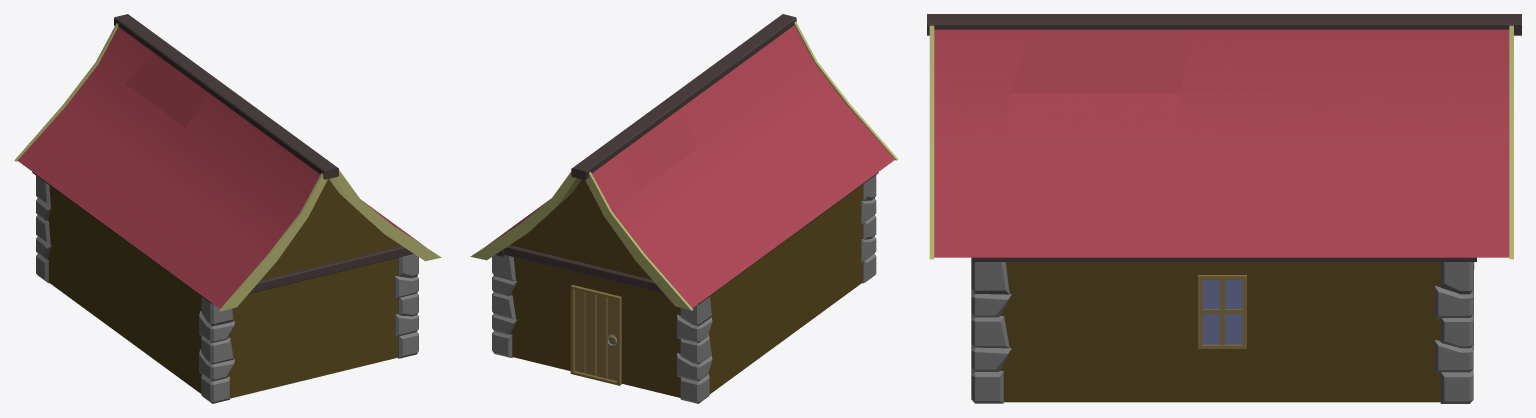
File: House_01.fbx
The picture shows the model from 3 angles, left to right: view 1: azimuth 30°, elevation 25°; view 2: azimuth 150°, elevation 25°; view 3: azimuth 270°, elevation 25°; orthographic projection. The views are drawn at different scales.
Visible parts, largest first — view 1: IntactRoof_02, IntactWall_03, IntactTopWall_02, polySurface133 (×2), IntactBeam_05, polySurface112 (×2), RoofPiece_04, polySurface106 (×2), polySurface117 (×2), polySurface136 (×2), polySurface135 (×2), polySurface129 (×2) (+27 smaller); view 2: IntactRoof_02, IntactWall_04, IntactTopWall_01, IntactDoor, RoofPiece_04, IntactBeam_05, IntactSideRocks_04, polySurface133, IntactSideRocks_01, BeamPiece03 (×2), BeamPiece02 (×2), IntactRoof_01 (+37 smaller); view 3: IntactRoof_01, IntactWall_01, RoofPiece_11, RoofPiece_06, RoofPiece_04, IntactBeam_05, RoofPiece_12, RoofPiece_10, polySurface133, RoofPiece_05, polySurface106, IntactSideRocks_01 (+28 smaller).
Part boxes in pixels (left/top/right/bottom): IntactRoof_02: left=14, top=23, right=327, bottom=311; IntactWall_03: left=228, top=268, right=374, bottom=398; IntactTopWall_02: left=261, top=179, right=401, bottom=279; polySurface133 (×2): left=116, top=254, right=367, bottom=354; IntactBeam_05: left=114, top=14, right=338, bottom=179; polySurface112 (×2): left=64, top=196, right=312, bottom=324; RoofPiece_04: left=125, top=52, right=208, bottom=127; polySurface106 (×2): left=47, top=236, right=264, bottom=397; polySurface117 (×2): left=74, top=255, right=309, bottom=389; polySurface136 (×2): left=162, top=272, right=384, bottom=368; polySurface135 (×2): left=92, top=253, right=309, bottom=359; polySurface129 (×2): left=116, top=239, right=355, bottom=301; IntactRoof_02: left=585, top=21, right=898, bottom=310; IntactWall_04: left=512, top=257, right=680, bottom=397; IntactTopWall_01: left=510, top=180, right=651, bottom=279; IntactDoor: left=570, top=285, right=621, bottom=385; RoofPiece_04: left=625, top=108, right=697, bottom=192; IntactBeam_05: left=571, top=14, right=796, bottom=179; IntactSideRocks_04: left=677, top=297, right=712, bottom=403; polySurface133: left=776, top=237, right=832, bottom=309; IntactSideRocks_01: left=492, top=255, right=517, bottom=357; BeamPiece03 (×2): left=553, top=72, right=720, bottom=283; BeamPiece02 (×2): left=504, top=116, right=650, bottom=266; IntactRoof_01: left=470, top=172, right=580, bottom=260; IntactRoof_01: left=929, top=25, right=1513, bottom=259; IntactWall_01: left=1001, top=262, right=1440, bottom=401; RoofPiece_11: left=1152, top=164, right=1427, bottom=257; RoofPiece_06: left=1004, top=93, right=1180, bottom=164; RoofPiece_04: left=1010, top=29, right=1191, bottom=93; IntactBeam_05: left=927, top=14, right=1521, bottom=35; RoofPiece_12: left=1169, top=93, right=1419, bottom=164; RoofPiece_10: left=1181, top=29, right=1408, bottom=93; polySurface133: left=1086, top=294, right=1248, bottom=378; RoofPiece_05: left=1005, top=164, right=1167, bottom=257; polySurface106: left=1348, top=339, right=1440, bottom=402; IntactSideRocks_01: left=1434, top=262, right=1473, bottom=403.
Bounding box in the file's own units: 4.51 × 4.33 × 7.42.
